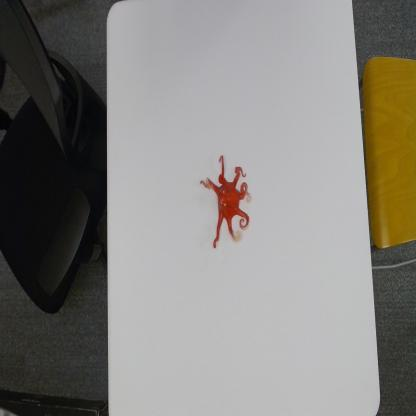Octopus: (200, 152, 252, 252)
